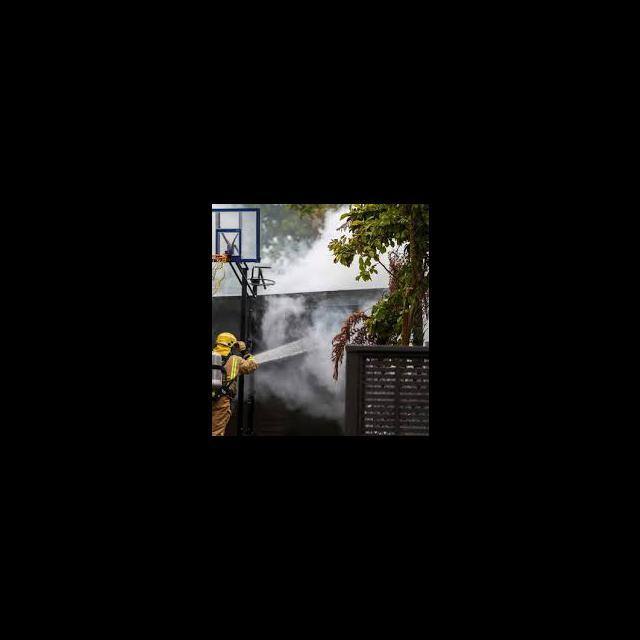Smoke: (253, 206, 388, 430)
